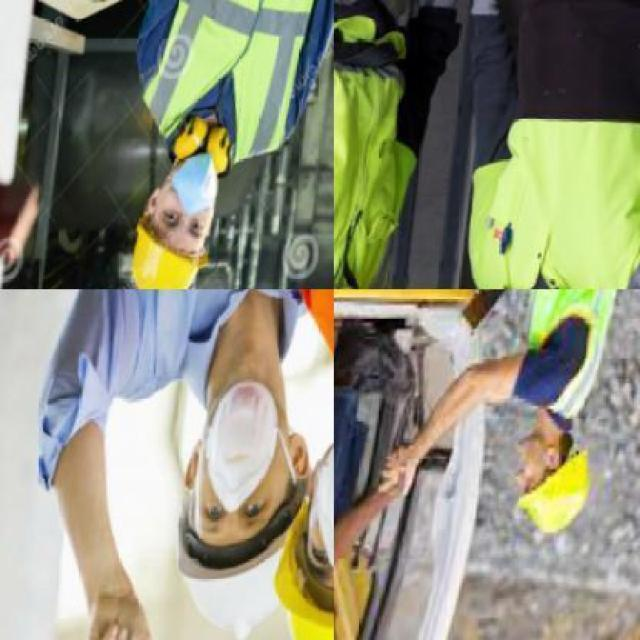helmet: (169, 498, 292, 638), (510, 446, 598, 540), (127, 208, 210, 300)
